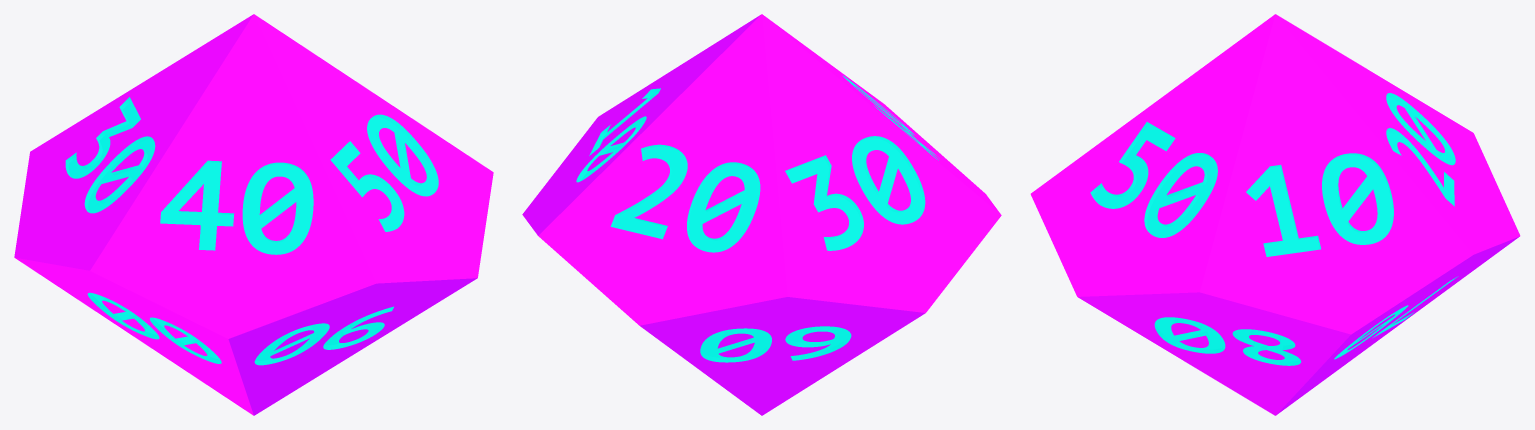
3 renders of one model, left to right at view 1: azimuth 30°, elevation 25°; view 2: azimuth 150°, elevation 25°; view 3: azimuth 270°, elevation 25°, orthographic.
Parts seen in each view (by area): view 1: d10.001; view 2: d10.001; view 3: d10.001.
Boxes of the visible parts, left/top/right/bottom form: d10.001: left=14, top=14, right=493, bottom=415; d10.001: left=522, top=14, right=1001, bottom=415; d10.001: left=1030, top=14, right=1520, bottom=415.
Bounding box in the file's own units: 1.9 × 1.81 × 2.
